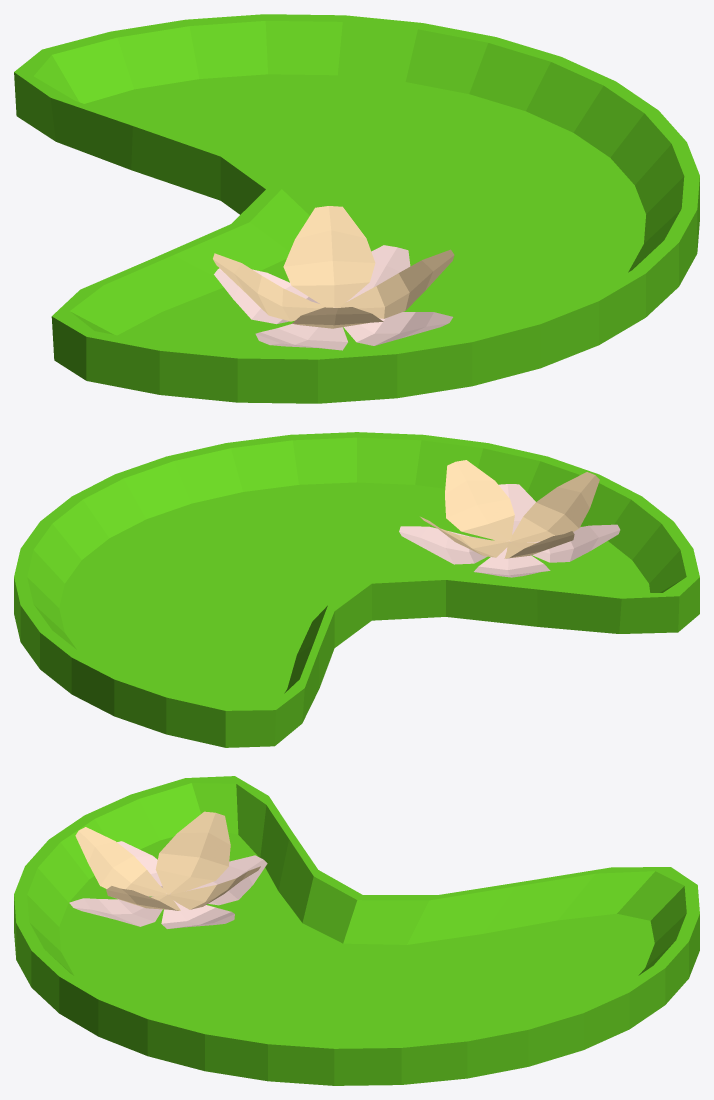
The model's file is waterlily_half_flower.fbx.
3 views of the same model, one above another, from view 1: azimuth 30°, elevation 25°; view 2: azimuth 150°, elevation 25°; view 3: azimuth 270°, elevation 25° (orthographic). The views are drawn at different scales.
Visible parts, largest first — view 1: Waterlily_Half, Flower_White; view 2: Waterlily_Half, Flower_White; view 3: Waterlily_Half, Flower_White.
Part boxes in pixels (x1,y1,x2,y2): Waterlily_Half: [14, 14, 699, 403]; Flower_White: [213, 206, 454, 350]; Waterlily_Half: [14, 432, 699, 747]; Flower_White: [399, 460, 620, 577]; Waterlily_Half: [14, 776, 699, 1085]; Flower_White: [69, 811, 267, 928].
Size of the model in its own units: 36.84 by 3.88 by 39.14.
